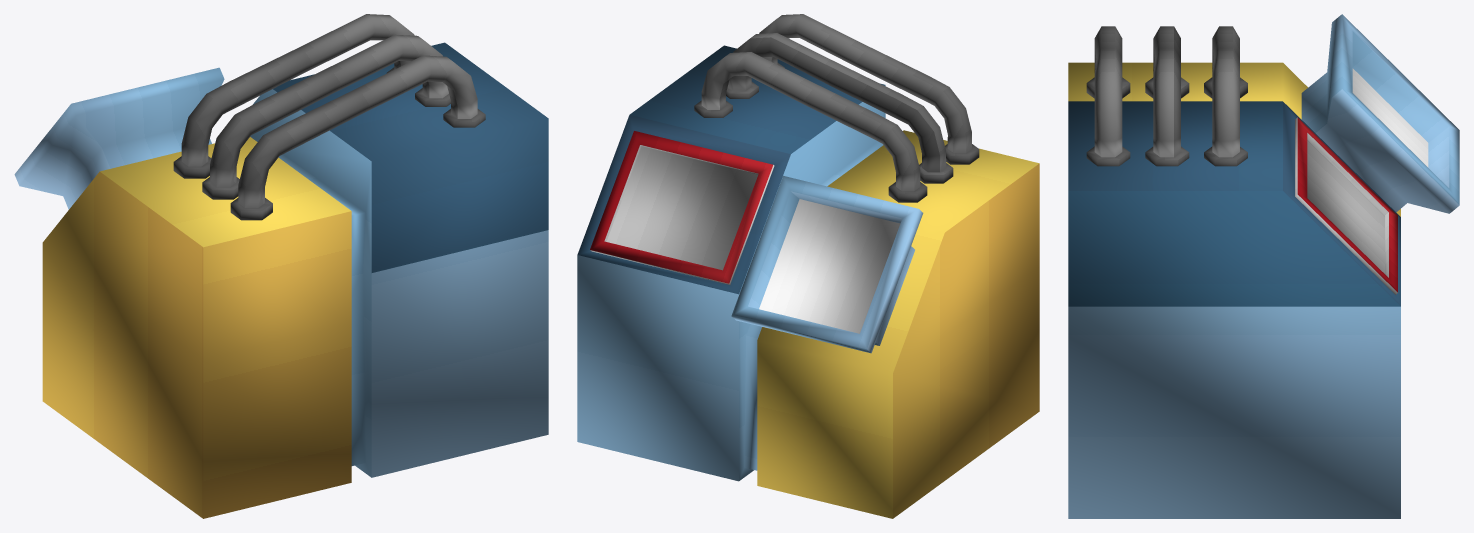
The model's file is Rcycle Machine.fbx.
The picture shows the model from 3 angles, left to right: view 1: azimuth 30°, elevation 25°; view 2: azimuth 150°, elevation 25°; view 3: azimuth 270°, elevation 25°; orthographic projection. The views are drawn at different scales.
Visible parts, largest first — view 1: Cube; view 2: Cube; view 3: Cube.
Part boxes in pixels (x1,y1,x2,y2): Cube: [14, 14, 548, 518]; Cube: [577, 14, 1039, 518]; Cube: [1068, 14, 1459, 518].
Size of the model in its own units: 160 by 172 by 151.
